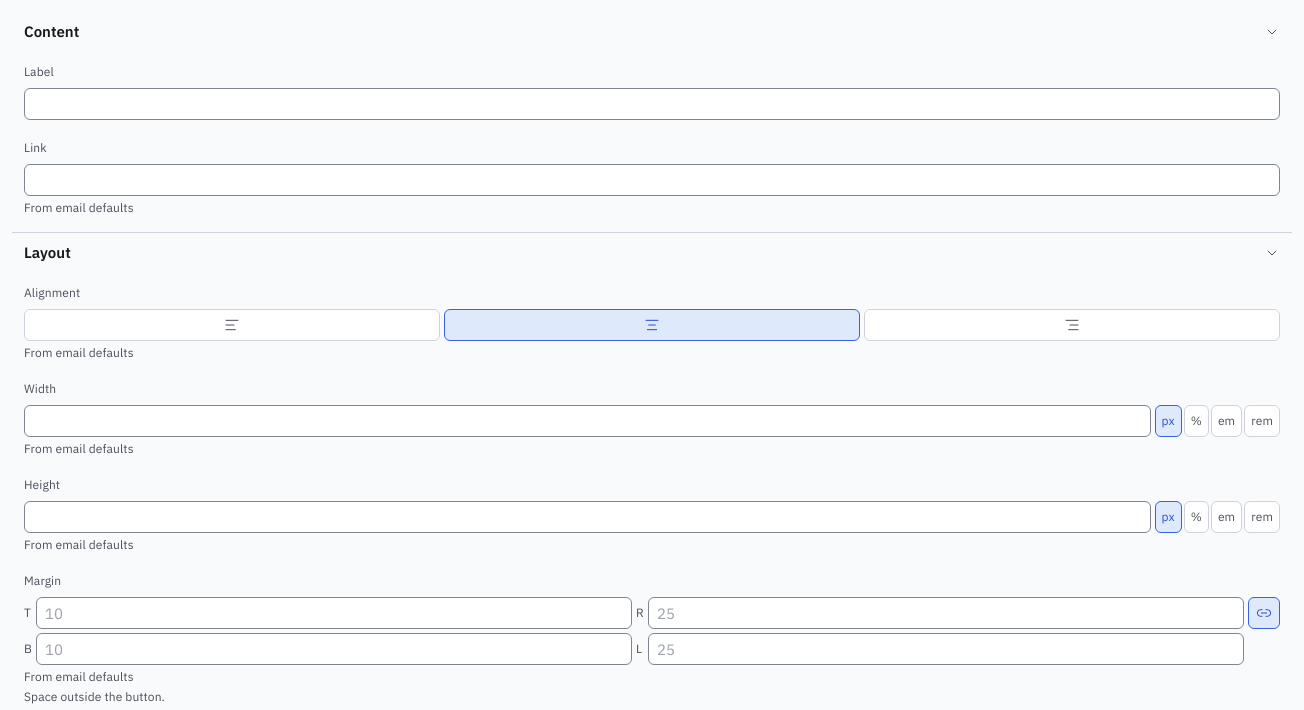
a link MJML would happily write but a reader should not click is refused
Step 1. Type "javascript:alert(1)" into the field labelled "Link" → (652, 180), box [24,164,1280,196]
Then press Enter
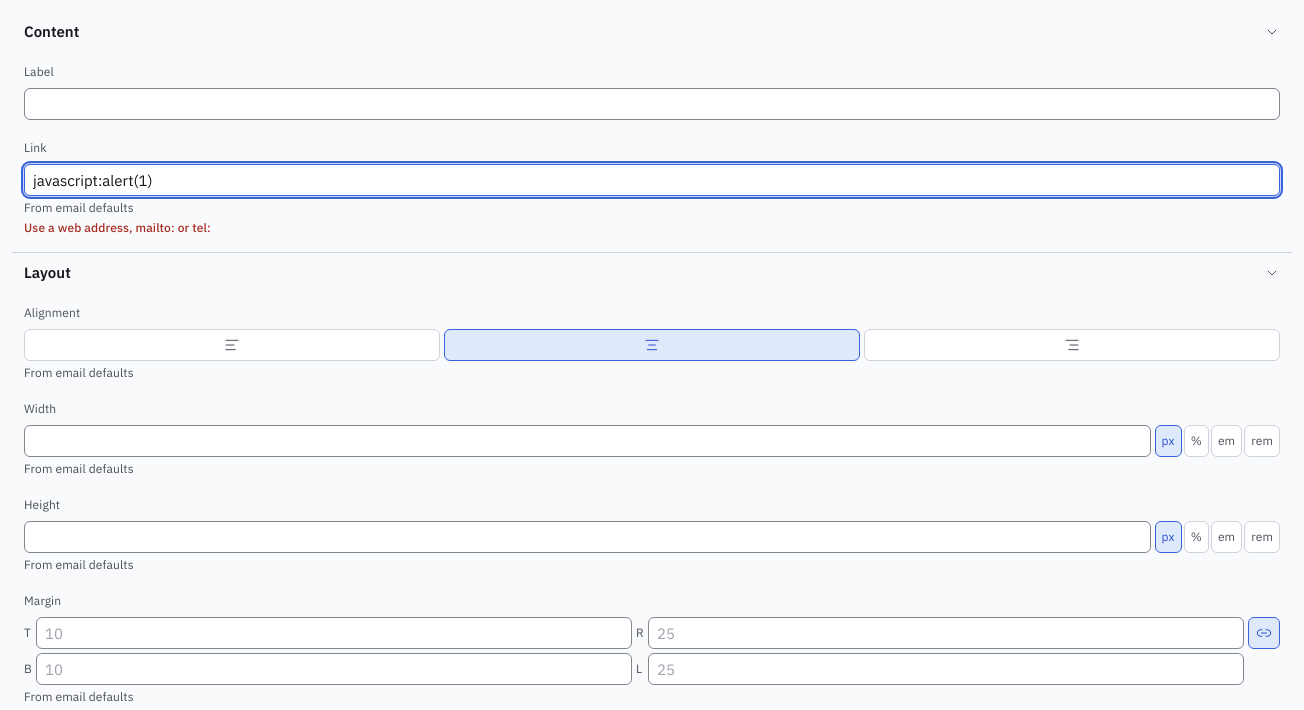
Result: the text "Use a web address, mailto: or tel:" is shown at [24,220,211,235]
